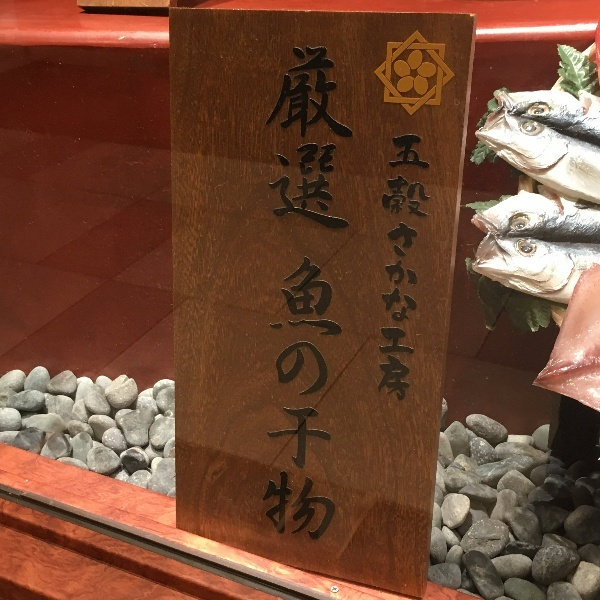text: (273, 46, 288, 545), (289, 46, 304, 545), (305, 46, 320, 545), (321, 46, 336, 545), (337, 46, 352, 545), (417, 135, 433, 405), (401, 135, 416, 405), (386, 135, 400, 405), (266, 46, 272, 545), (353, 46, 358, 545)
